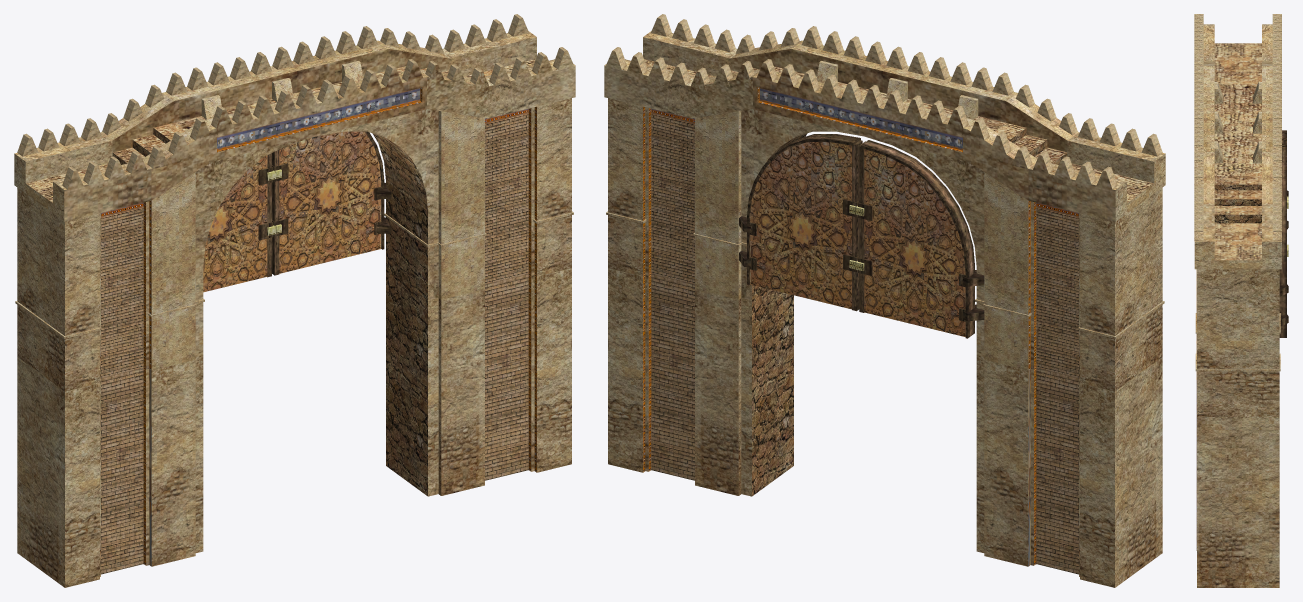
Rendered from pers_wall_gate.glb.
3 views of the same model, side by side, from view 1: azimuth 30°, elevation 25°; view 2: azimuth 150°, elevation 25°; view 3: azimuth 270°, elevation 25° (orthographic). The views are drawn at different scales.
Bounding box in the file's own units: 36.4 × 29.98 × 6.67.
Materials: 1 (1 with a texture image).
